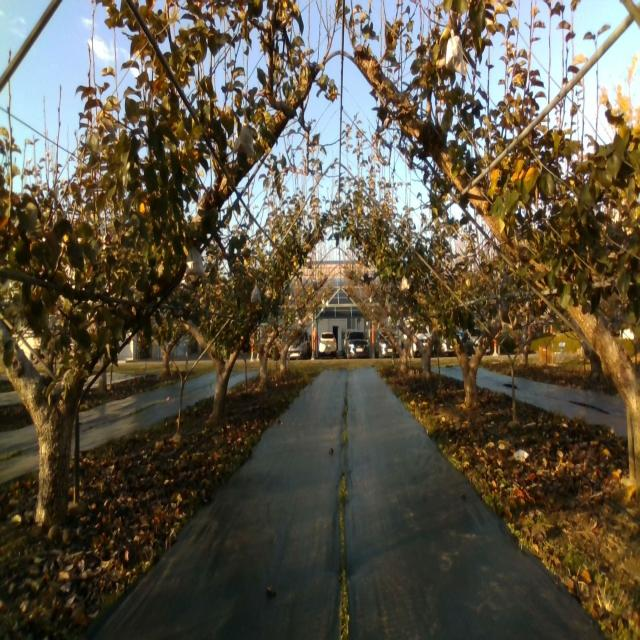pearbags: (445, 29, 466, 77), (233, 122, 258, 156), (184, 248, 206, 279), (250, 283, 260, 303)
